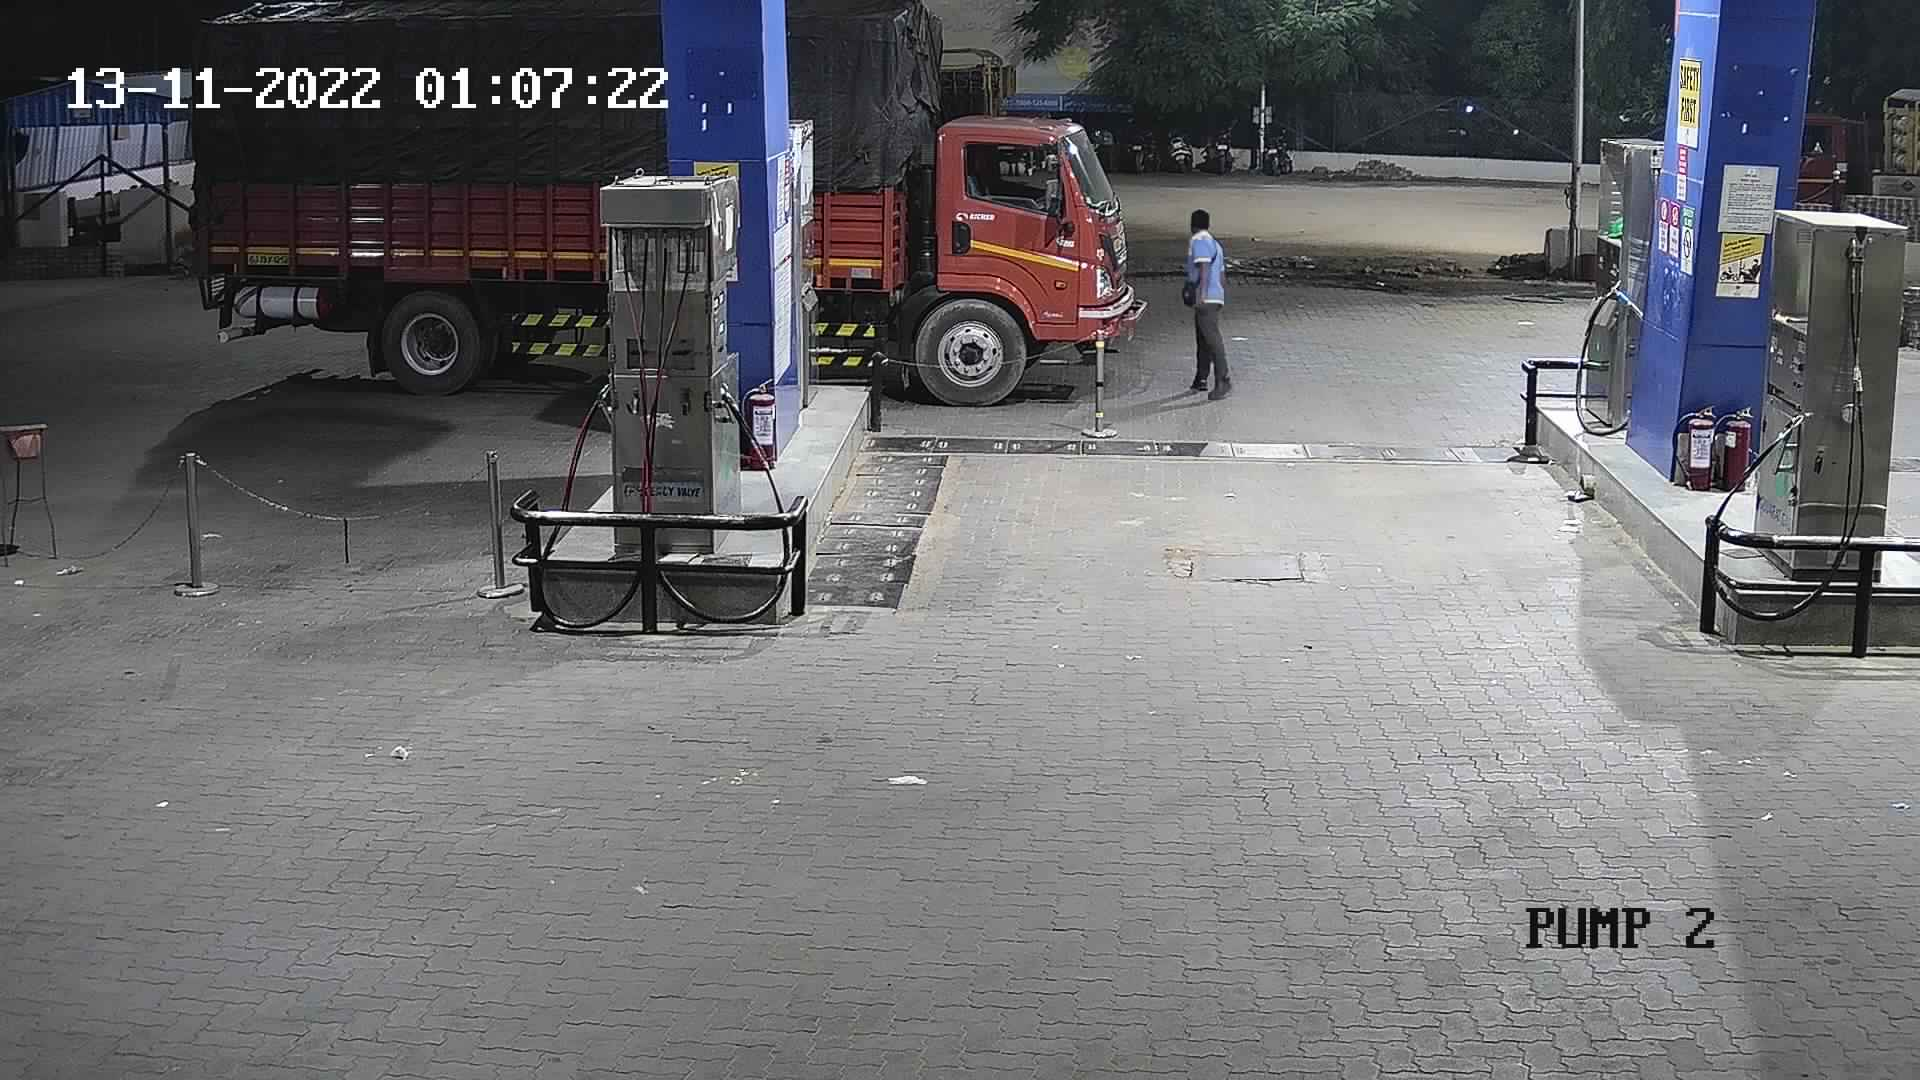Bike: (1242, 117, 1296, 179), (1197, 117, 1241, 186), (1156, 125, 1197, 177), (1117, 123, 1154, 179)
HMV: (164, 0, 670, 396), (1775, 65, 1917, 224)
Others: (1156, 203, 1241, 405)
